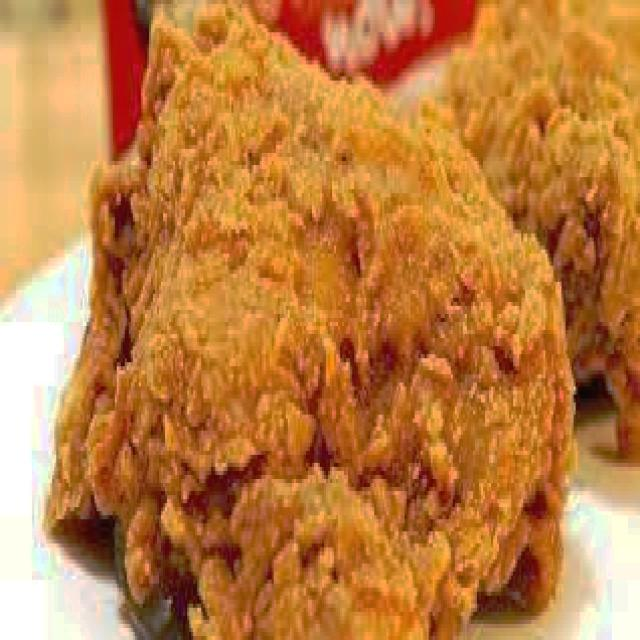fried_chicken: (42, 4, 576, 640), (400, 0, 640, 475)
